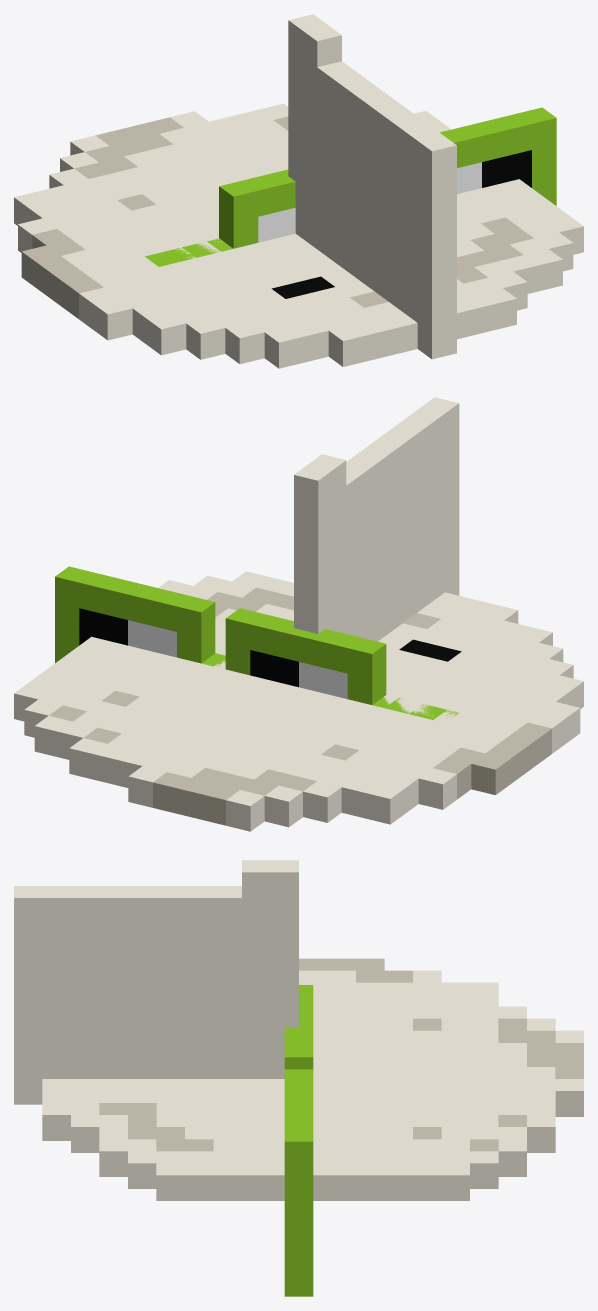
Rendered from moon.glb.
The picture shows the model from 3 angles, top to bottom: view 1: azimuth 30°, elevation 25°; view 2: azimuth 150°, elevation 25°; view 3: azimuth 270°, elevation 25°; orthographic projection.
Visible parts, largest first — view 1: top, circle-20, glasses, mark, l2, layer-2; view 2: top, circle-20, glasses, mark, layer-2, l2; view 3: top, circle-20, glasses, mark, l2.
Part boxes in pixels (<box>): top: <box>14,103,583,368</box>; circle-20: <box>288,14,456,359</box>; glasses: <box>145,107,556,266</box>; mark: <box>21,116,533,318</box>; l2: <box>85,117,533,307</box>; layer-2: <box>258,150,531,242</box>; top: <box>14,571,583,831</box>; circle-20: <box>294,397,459,641</box>; glasses: <box>55,566,458,719</box>; mark: <box>49,587,551,825</box>; layer-2: <box>79,608,347,698</box>; l2: <box>102,592,461,799</box>; top: <box>42,970,583,1200</box>; circle-20: <box>14,860,298,1104</box>; glasses: <box>284,985,313,1296</box>; mark: <box>128,958,583,1151</box>; l2: <box>99,1018,574,1151</box>.
Size of the model in its own units: 19.5 by 12 by 20.
9 materials, 9 textured.
